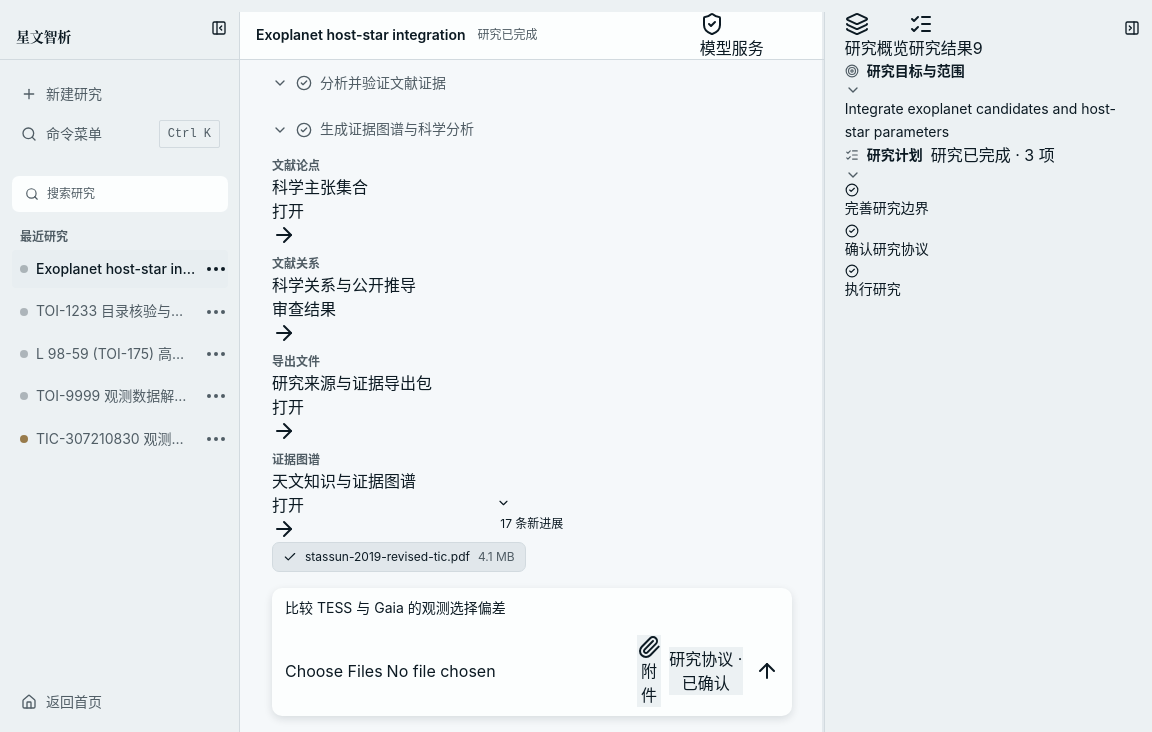
Workspace routes › keeps two explicitly submitted identical messages as distinct Turns
(page scrolled)
Click the button named "发送研究消息" at (767,671), box [755,659,779,683]
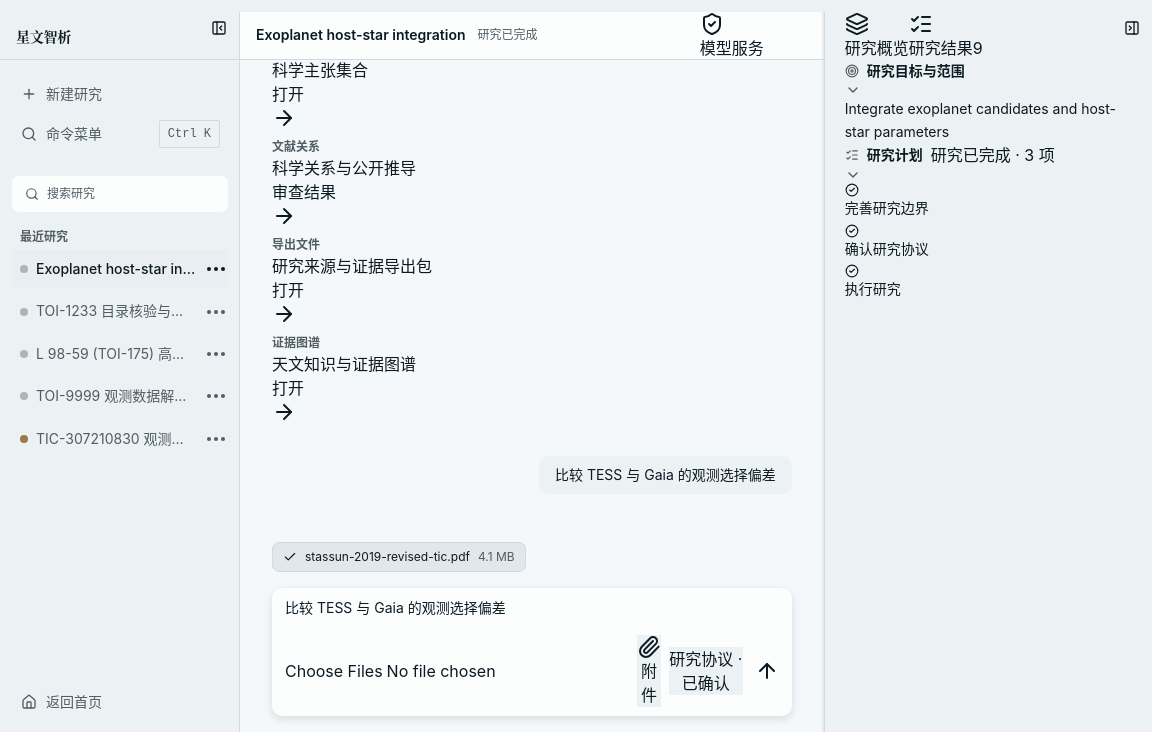
Now the text "比较 TESS 与 Gaia 的观测选择偏差" is shown, box [555,464,776,486]
Clear the field named "输入研究消息" at (395,607), box [285,599,506,616]
Click the button named "发送研究消息" at (767,671), box [755,659,779,683]
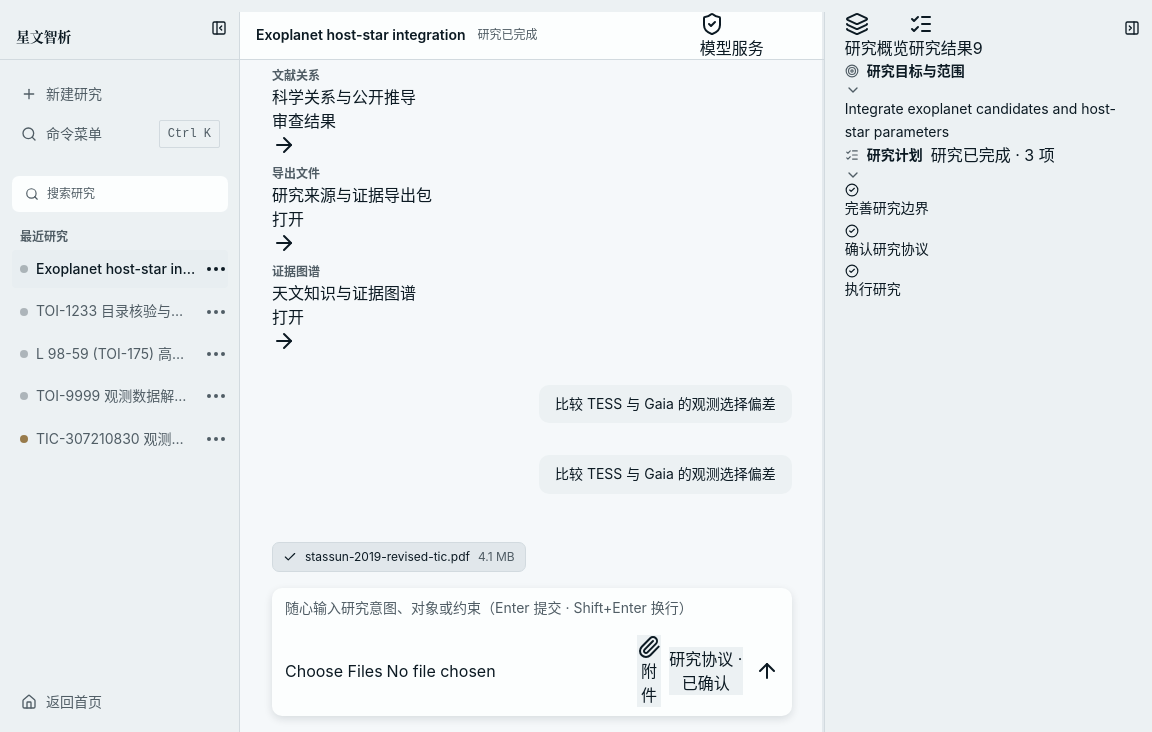
Now the text "比较 TESS 与 Gaia 的观测选择偏差" is shown 2 times, box [555,393,776,415]; [555,463,776,486]
